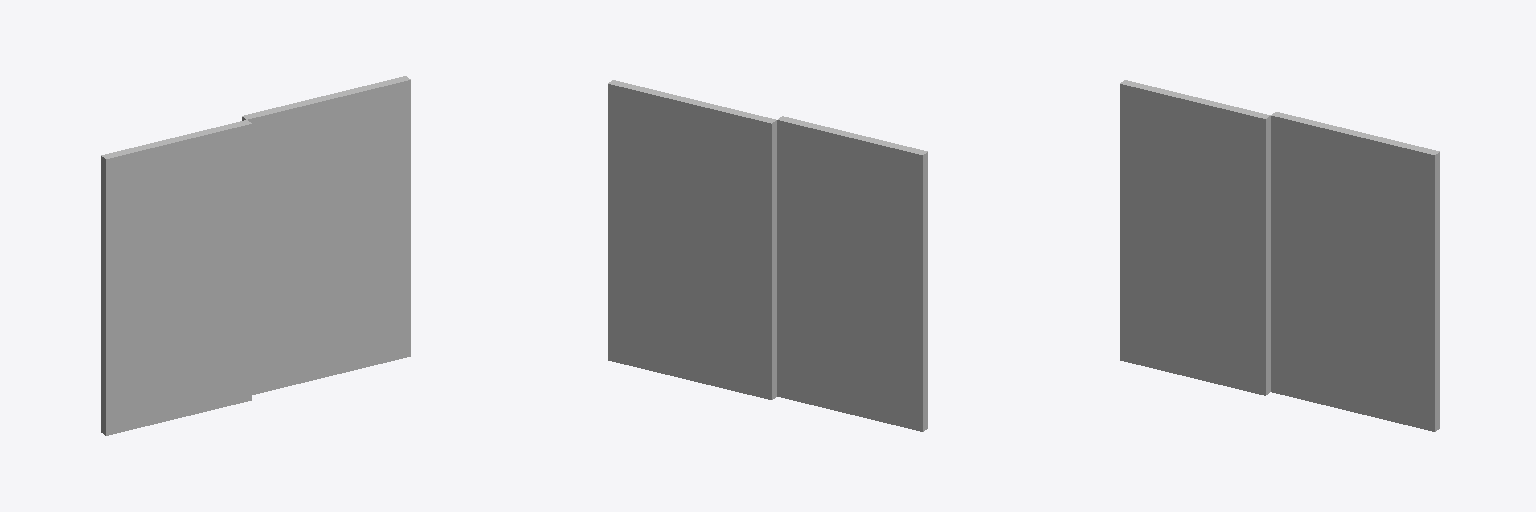
File: doubledoor.obj
3 renders of one model, left to right at view 1: azimuth 30°, elevation 25°; view 2: azimuth 150°, elevation 25°; view 3: azimuth 330°, elevation 25°, orthographic.
Parts seen in each view (by area): view 1: doubledoor; view 2: doubledoor; view 3: doubledoor.
Part boxes in pixels (left/top/right/bottom): doubledoor: left=101, top=76, right=410, bottom=435; doubledoor: left=608, top=80, right=927, bottom=431; doubledoor: left=1120, top=80, right=1439, bottom=431.
Size of the model in its own units: 34 by 29 by 2.